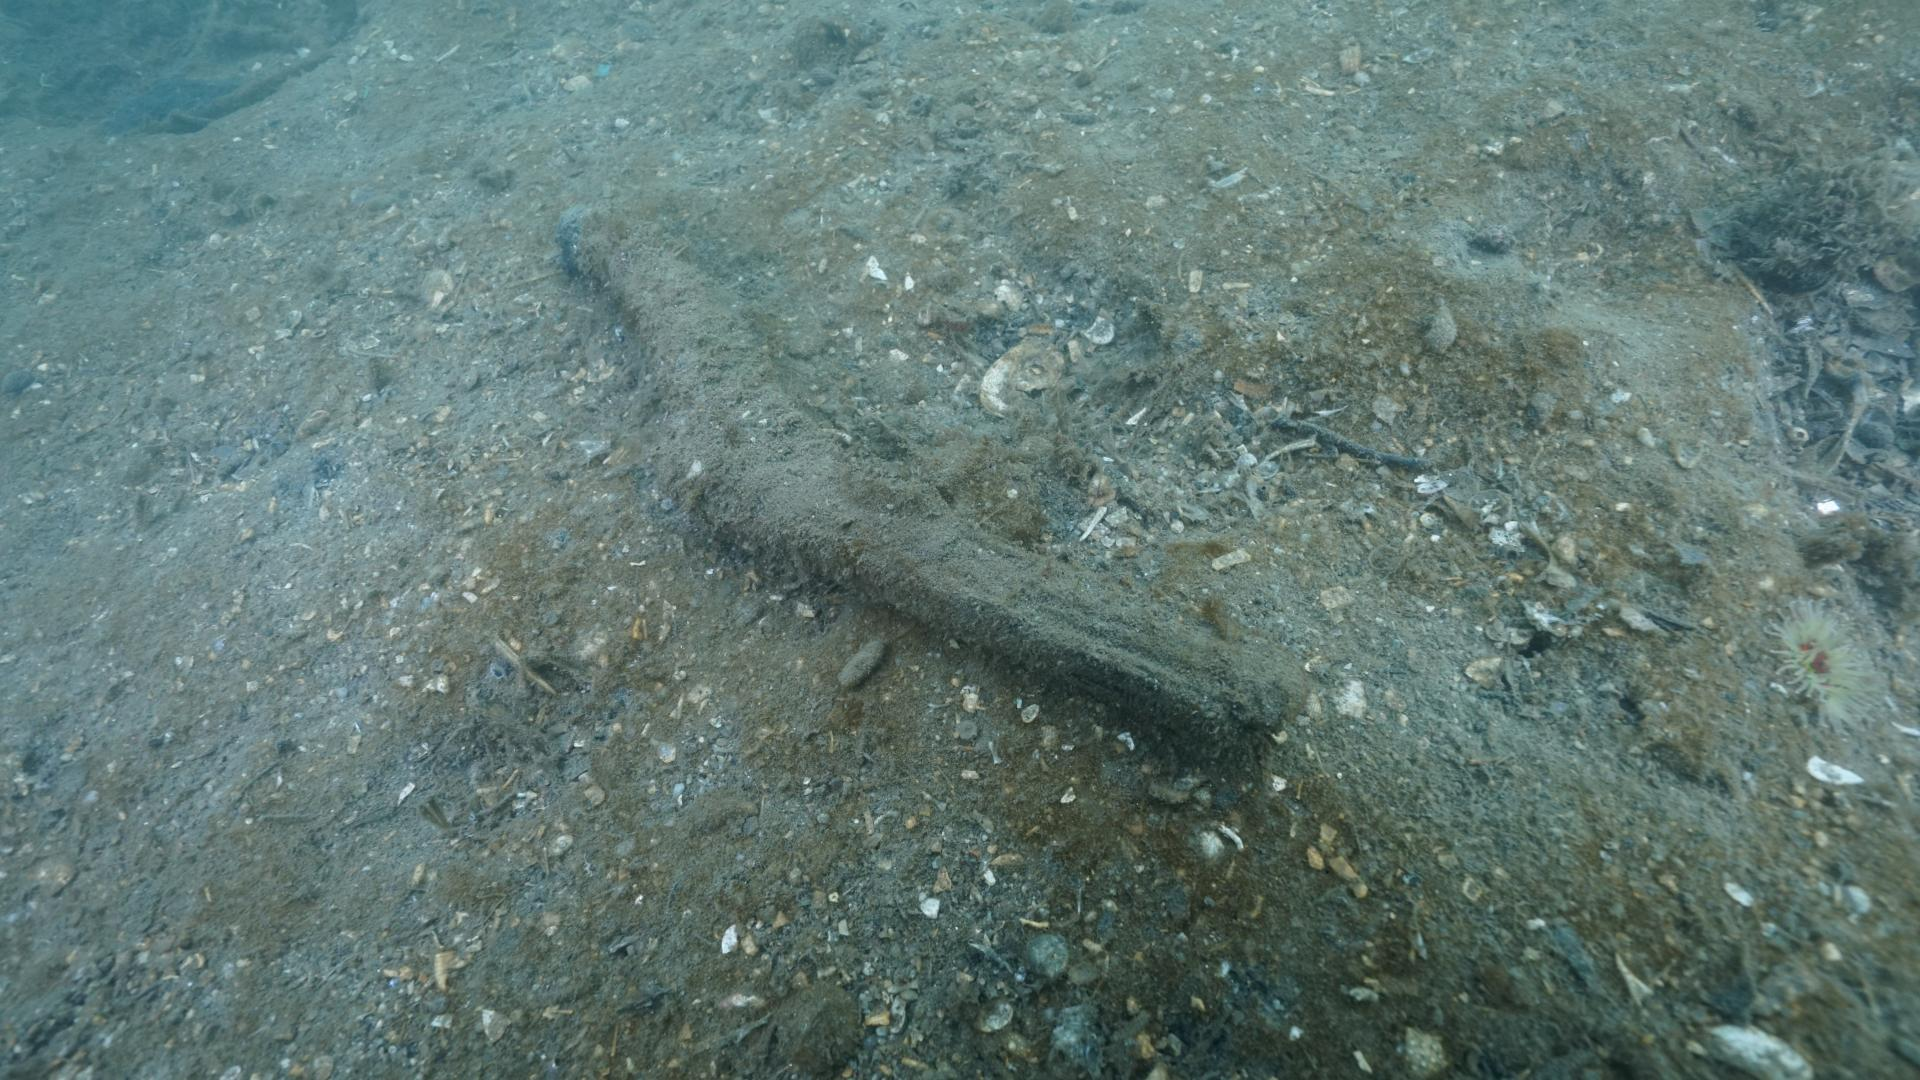wood: (560, 203, 1290, 756)
